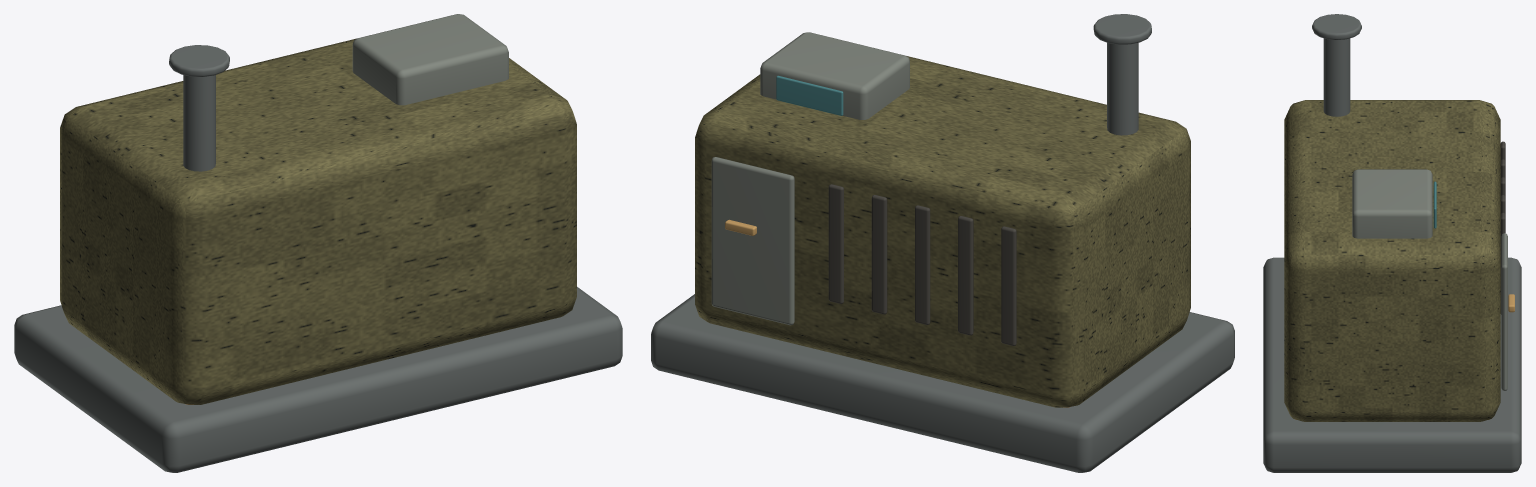
Rendered from STK-B04.fbx.
3 views of the same model, side by side, from view 1: azimuth 30°, elevation 25°; view 2: azimuth 150°, elevation 25°; view 3: azimuth 270°, elevation 25° (orthographic). The views are drawn at different scales.
Visible parts, largest first — view 1: STK-B04_Armor, STK-B04_Steel, STK-B04_Edge; view 2: STK-B04_Armor, STK-B04_Steel, STK-B04_Edge, STK-B04_Soot, STK-B04_Optic; view 3: STK-B04_Armor, STK-B04_Steel, STK-B04_Edge, STK-B04_Soot.
Part boxes in pixels (box(x1,y1,x2,y2)): STK-B04_Armor: box(60, 38, 576, 404); STK-B04_Steel: box(14, 45, 622, 472); STK-B04_Edge: box(352, 14, 508, 105); STK-B04_Armor: box(695, 56, 1190, 407); STK-B04_Steel: box(651, 14, 1234, 472); STK-B04_Edge: box(711, 32, 909, 325); STK-B04_Soot: box(828, 184, 1016, 345); STK-B04_Optic: box(776, 75, 843, 115); STK-B04_Armor: box(1284, 100, 1500, 421); STK-B04_Steel: box(1263, 14, 1521, 472); STK-B04_Edge: box(1352, 169, 1507, 390); STK-B04_Soot: box(1500, 141, 1505, 314).
Size of the model in its own units: 225 by 174 by 135.
